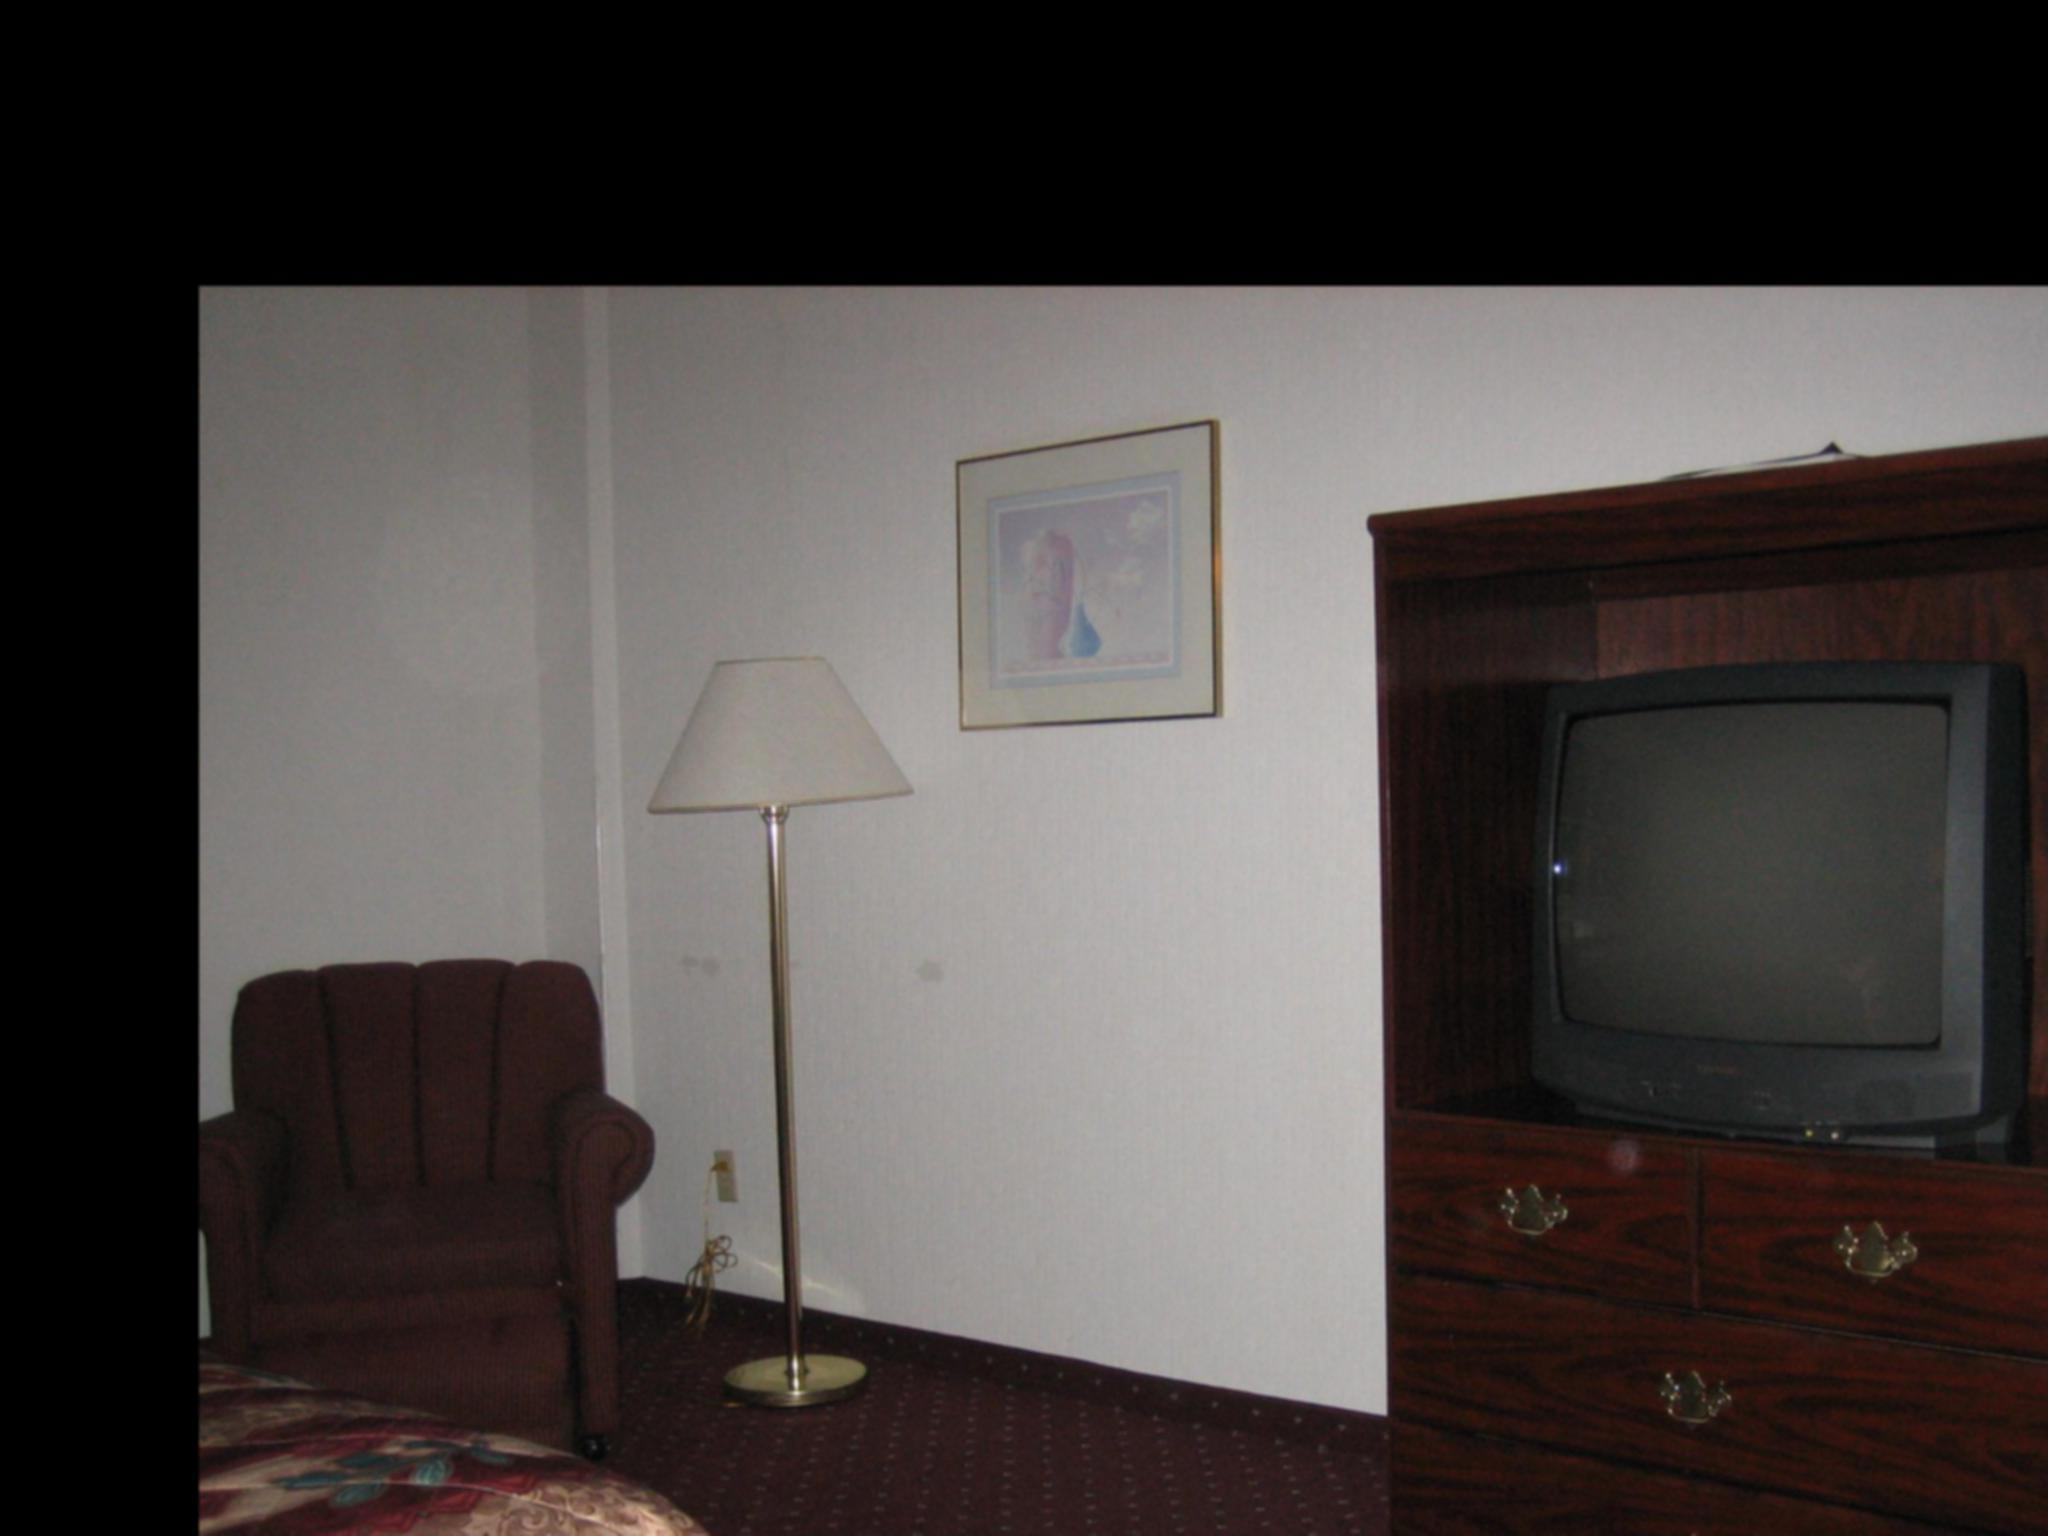Armario: (1406, 518, 2048, 1536)
Otro Obstaculo: (653, 649, 927, 1409)
